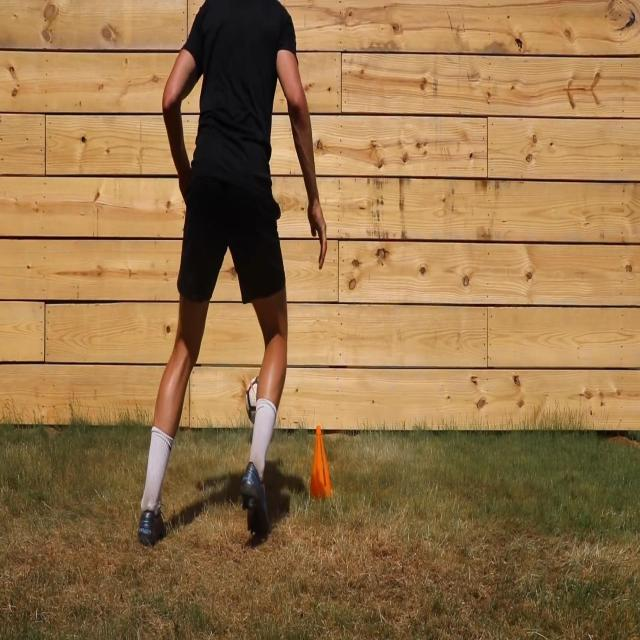Soccer Ball: (246, 375, 275, 428)
